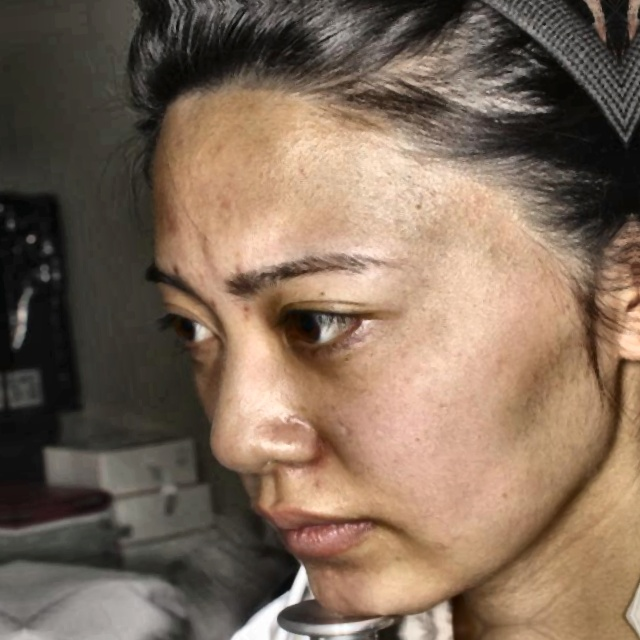comedone: (233, 299, 259, 324), (169, 211, 180, 233)
